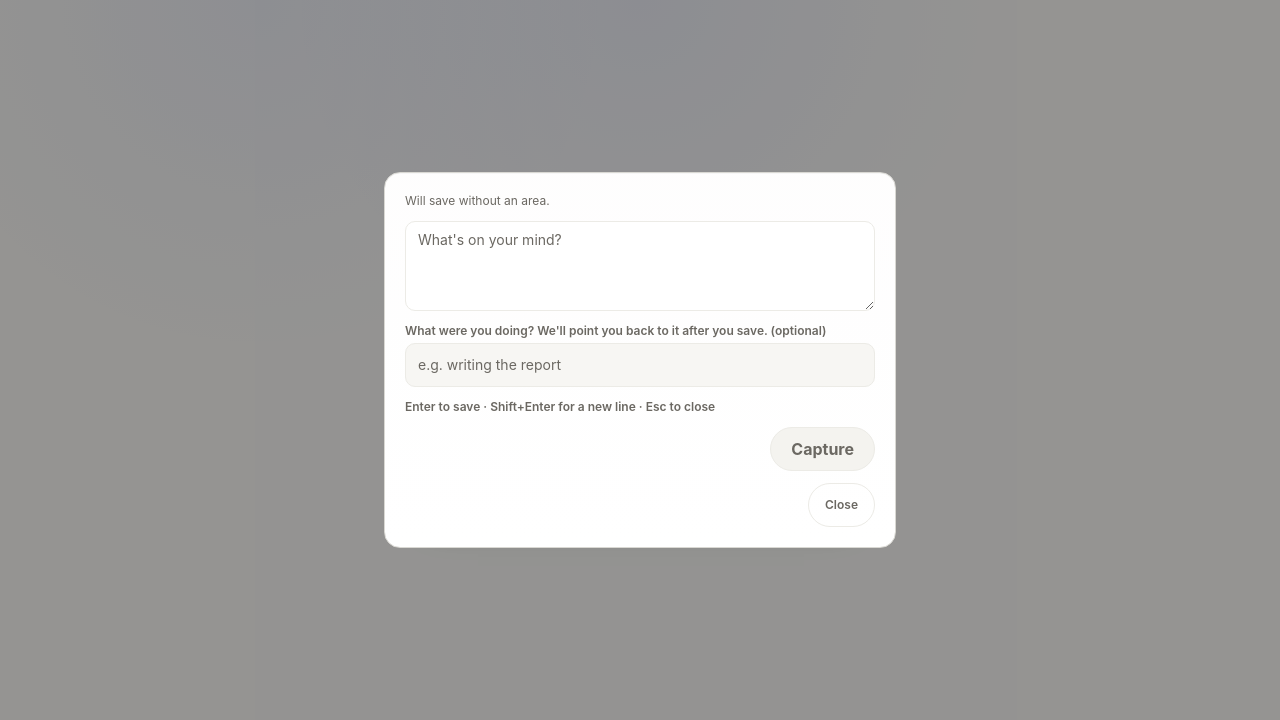
Test case: CaptureOverlay › #703 one capture action › still ends with the 'back to: <hook>' conclusion
Type "Follow up with Alex" into the text box with test id "capture-overlay-textarea".
click(640, 266); type("Follow up with Alex")  # box [405, 221, 875, 311]
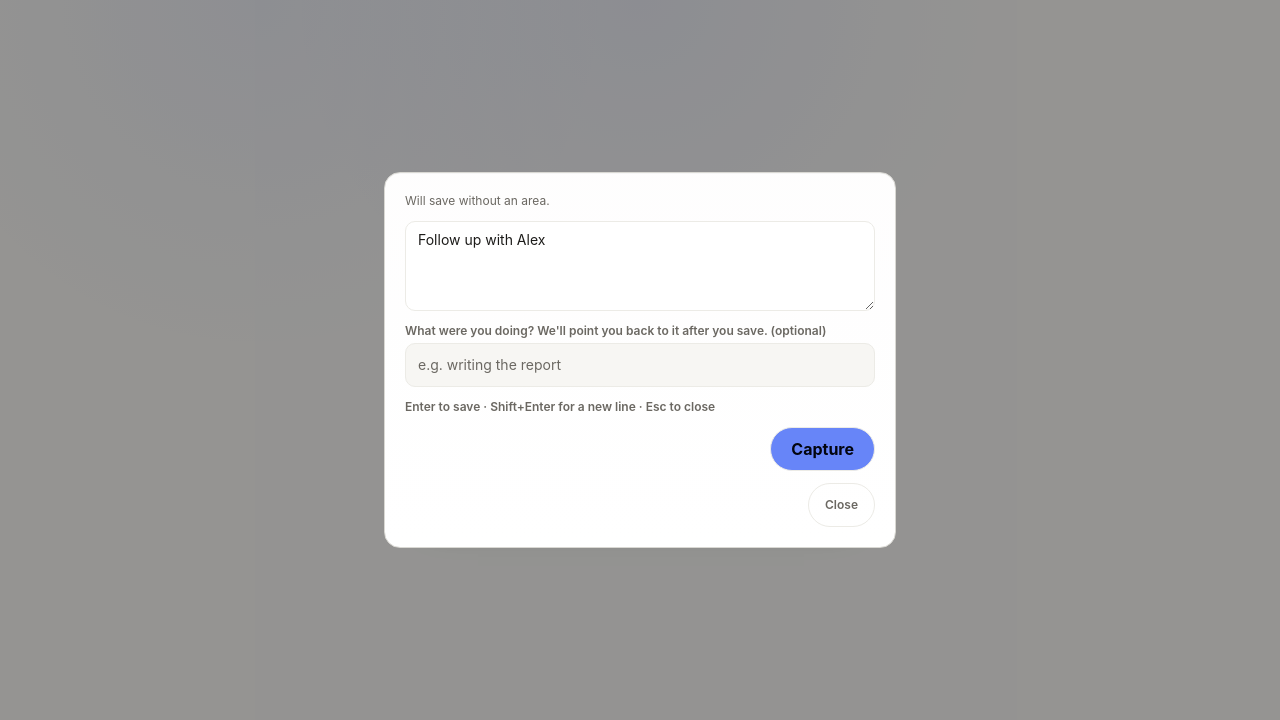
Type "the weekly review" into the field with test id "capture-overlay-return-hook".
click(640, 365); type("the weekly review")  # box [405, 343, 875, 387]
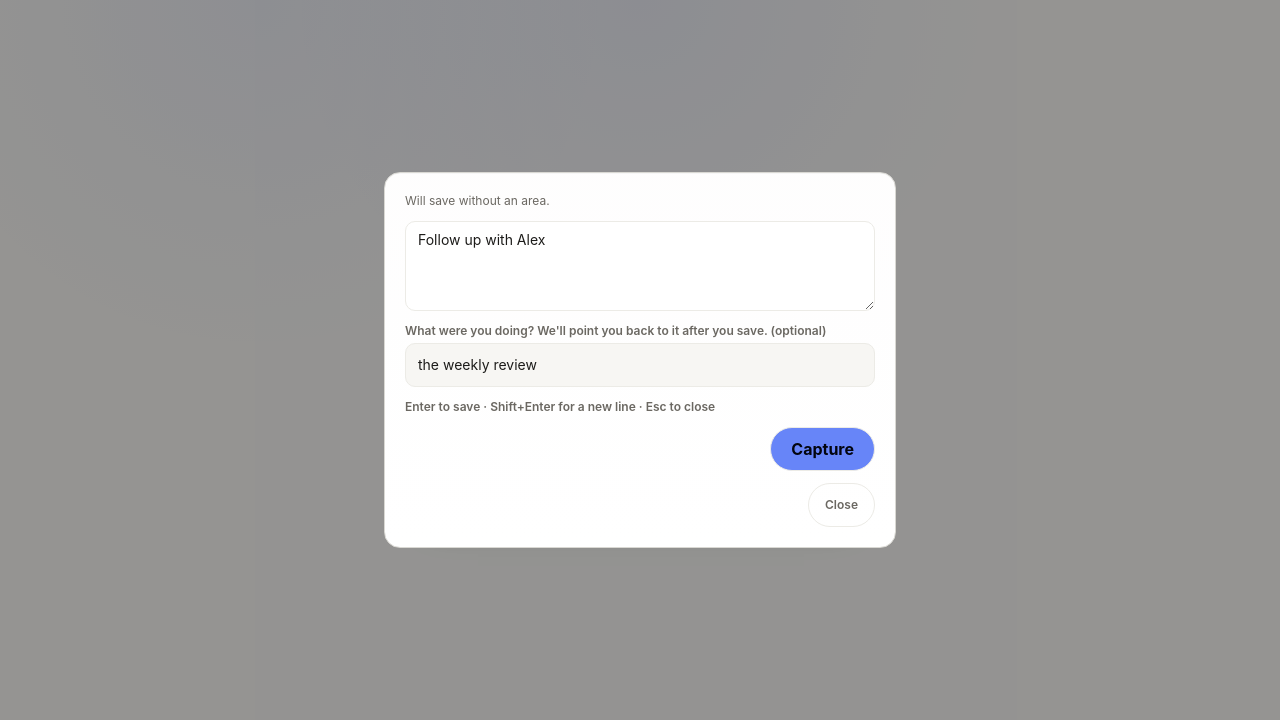
Press Enter in the text box with test id "capture-overlay-textarea", box [405, 221, 875, 311]
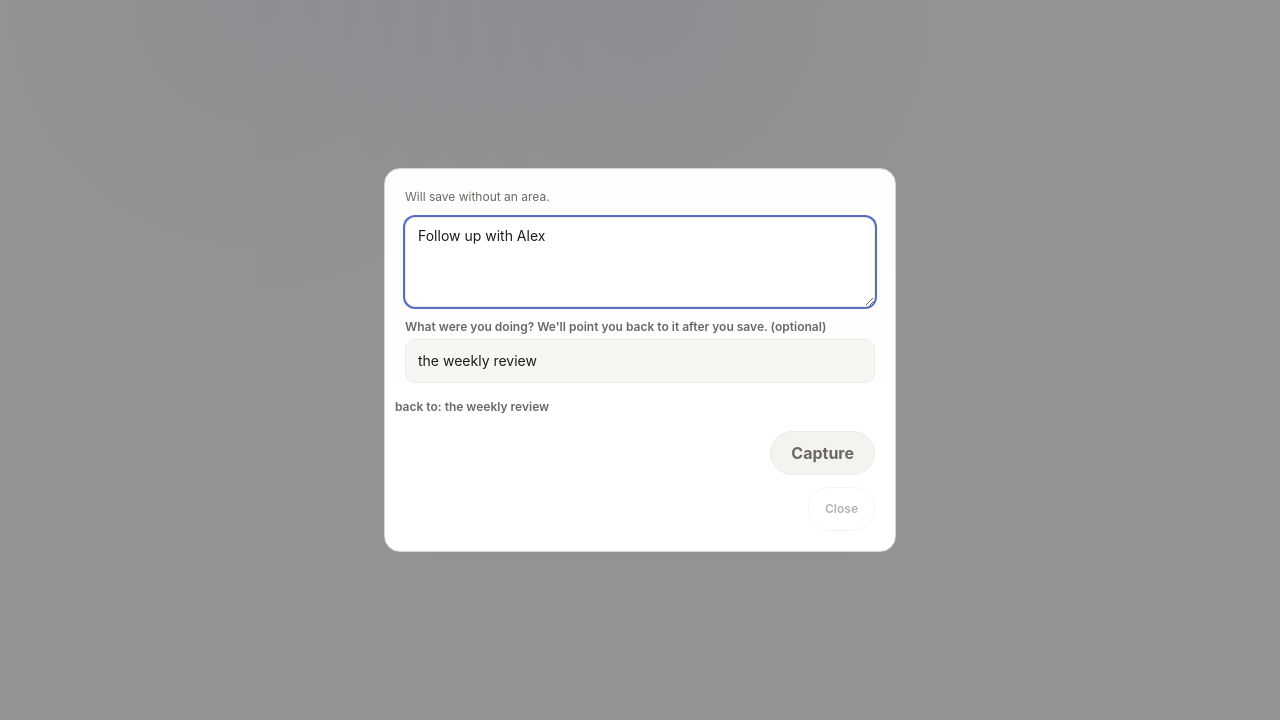
Expected: the message with test id "capture-overlay-conclusion" reads "back to: the weekly review", [395, 385, 549, 429]
